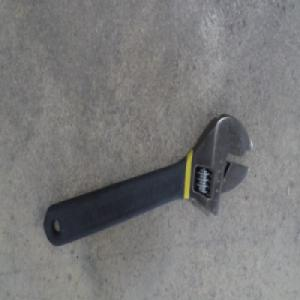AdjustableWrench: (42, 115, 250, 249)
